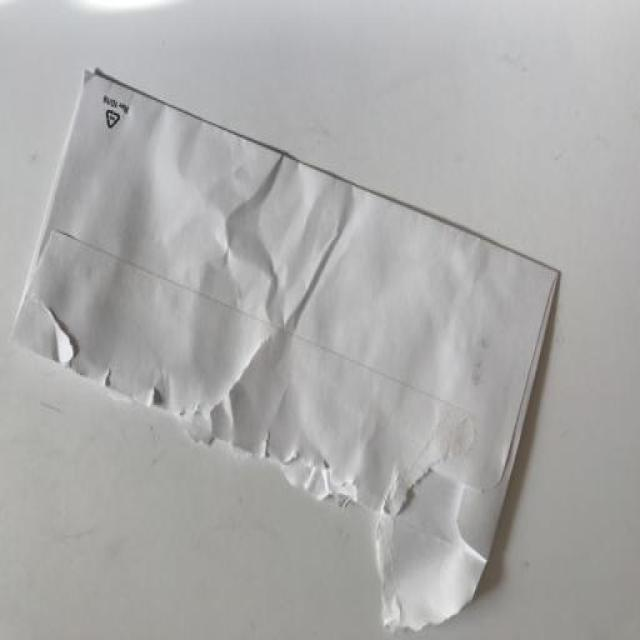Paper: (17, 68, 565, 635)
